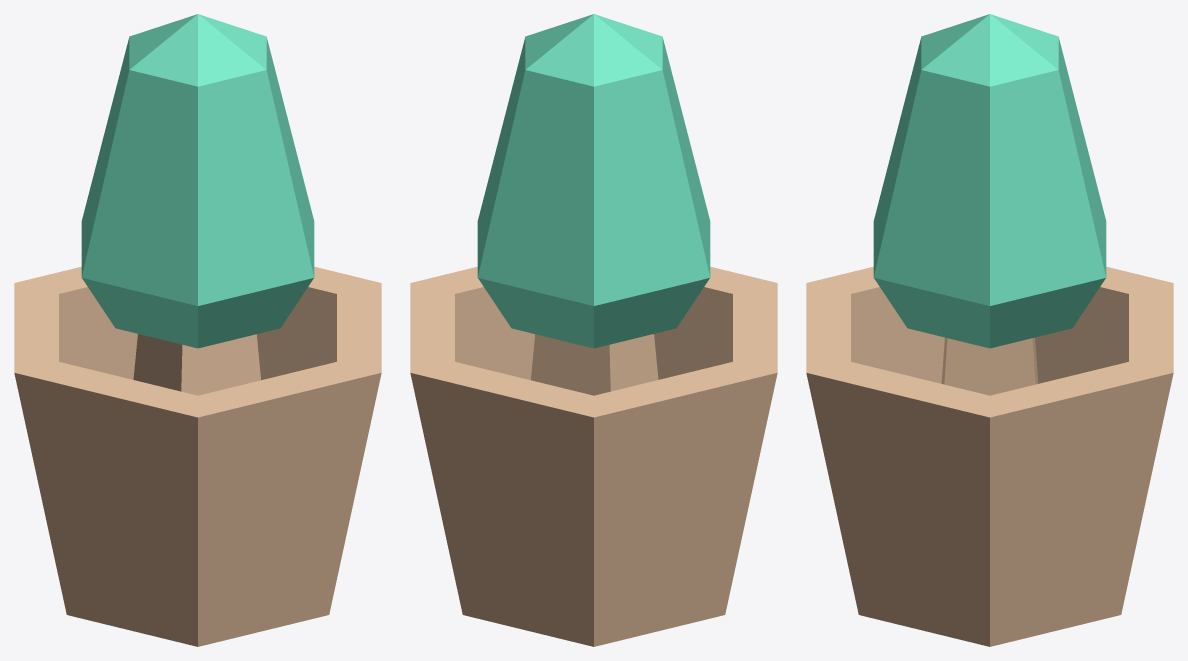
File: plantSmall3.gltf
3 views of the same model, side by side, from view 1: azimuth 30°, elevation 25°; view 2: azimuth 150°, elevation 25°; view 3: azimuth 270°, elevation 25° (orthographic).
Visible parts, largest first — view 1: plantSmall3(Clone); view 2: plantSmall3(Clone); view 3: plantSmall3(Clone).
Part boxes in pixels (box(x1,y1,x2,y2)): plantSmall3(Clone): box(14, 14, 381, 646); plantSmall3(Clone): box(410, 14, 777, 646); plantSmall3(Clone): box(806, 14, 1173, 646).
Size of the model in its own units: 0.098 by 0.145 by 0.0849.
